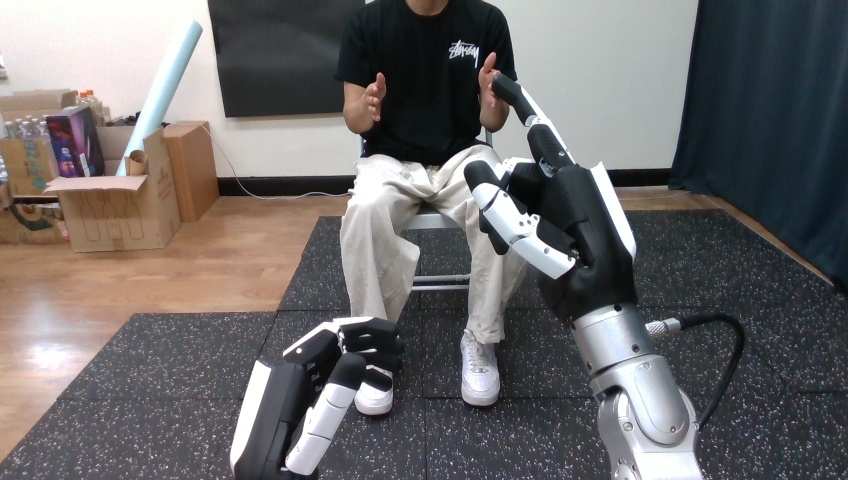left robot arm: (464, 74, 743, 479), (650, 319, 737, 417)
left robot hand: (464, 74, 743, 479), (650, 319, 737, 417)
right robot arm: (464, 74, 743, 479), (650, 319, 737, 417)
right robot hand: (464, 74, 743, 479), (650, 319, 737, 417)
